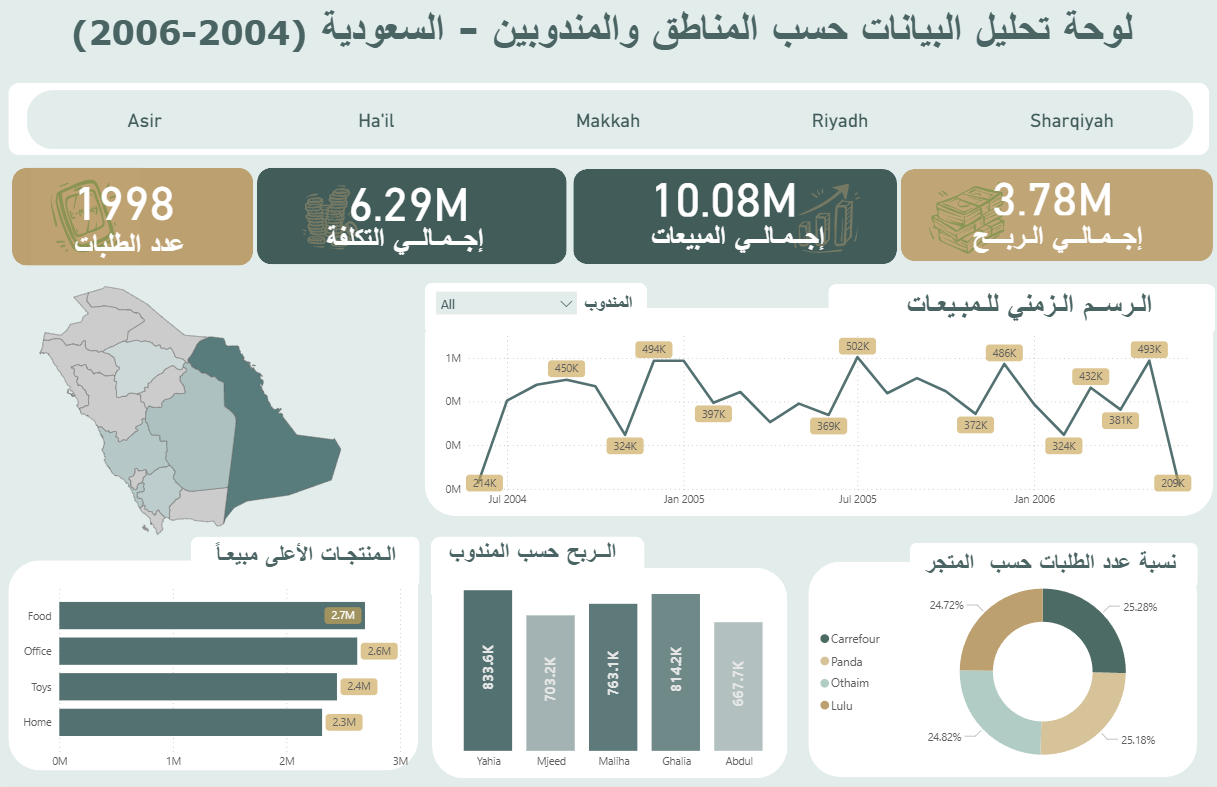

This screenshot's page, from the dashboard's own definition file:
{"tool":"powerbi","page":{"name":"SPARK_KKU","canvas":[1400,900],"ordinal":1},"visuals":[{"type":"shape","box":[13.3,95,1372.9,82.9],"z":0,"group":"g12"},{"type":"group","id":"g1","title":"الربح","box":[1031.8,193.3,357.1,110.5],"z":0,"group":"g11"},{"type":"shape","box":[16.7,193.9,275.7,111.8],"z":0,"group":"g8"},{"type":"shape","box":[296.6,194,354.3,110.5],"z":0,"group":"g6"},{"type":"shape","box":[658,194.6,370,108.8],"z":0,"group":"g4"},{"type":"shape","box":[1031.8,195.4,357.1,105.6],"z":0,"group":"g1"},{"type":"shape","box":[488.3,325,254.7,59],"z":0,"group":"g9"},{"type":"shape","box":[488.7,353.4,901.7,238.3],"z":0,"group":"g7"},{"type":"group","id":"g2","title":"الربح حسب المندوب","box":[458.3,608.3,453.3,281.7],"z":0},{"type":"shape","box":[495.7,613.4,244.5,74.3],"z":0,"group":"g2"},{"type":"shape","box":[13.3,642.4,469.1,240.4],"z":0,"group":"g5"},{"type":"shape","box":[927.2,643.6,445,246.7],"z":0,"group":"g3"},{"type":"group","id":"g3","title":"نسبة الطلبات حسب المتجر","box":[927.2,621.9,449.6,278.3],"z":500},{"type":"advancedSlicerVisual","fields":{"Values":["PASU_Clean.State"]},"box":[35.3,103.7,1332.5,67.1],"z":1000,"group":"g12"},{"type":"actionButton","box":[38.1,193.5,125.7,110.5],"z":1000,"group":"g8"},{"type":"group","id":"g4","title":"المبيعات","box":[658,193.8,370,110.5],"z":1000,"group":"g11"},{"type":"actionButton","box":[1043.3,199.2,127.4,95.3],"z":1000,"group":"g1"},{"type":"actionButton","box":[876.2,211.5,139.9,91.7],"z":1000,"group":"g4"},{"type":"actionButton","box":[322.4,211.7,120,79.3],"z":1000,"group":"g6"},{"type":"shapeMap","fields":{"Category":["PASU_Clean.State"],"Value":["Sum(PASU_Clean.Sale)"]},"box":[0,312.2,441.7,315],"z":1000,"group":"g10"},{"type":"slicer","fields":{"Values":["PASU_Clean.Rep"]},"box":[491.8,325,181.3,52.6],"z":1000,"group":"g9"},{"type":"shape","box":[950.1,326.4,442,58.6],"z":1000,"group":"g7"},{"type":"group","id":"g5","title":"المنتجات  الاعلى مبيعا","box":[13.3,613.3,476.7,275],"z":1000},{"type":"shape","box":[221.4,615.1,261.3,60.1],"z":1000,"group":"g5"},{"type":"shape","box":[1043.3,622.2,329.7,53.2],"z":1000,"group":"g3"},{"type":"shape","box":[496.8,649.1,406.7,240.8],"z":1000,"group":"g2"},{"type":"group","id":"g6","title":"التكلفة","box":[296.6,194,354.3,110.5],"z":2000,"group":"g11"},{"type":"textbox","box":[1061.8,247,287.8,56.8],"z":2000,"group":"g1"},{"type":"textbox","box":[684.9,248.6,300,55.8],"z":2000,"group":"g4"},{"type":"textbox","box":[306.7,250.1,296.4,51.3],"z":2000,"group":"g6"},{"type":"textbox","box":[42.4,257.1,217.4,56.1],"z":2000,"group":"g8"},{"type":"group","id":"g7","title":"مبيعات عبر الزمن","box":[488.3,325,916.7,266.7],"z":2000},{"type":"textbox","box":[953.8,325,451.2,58.6],"z":2000,"group":"g7"},{"type":"textbox","box":[645.2,328.8,105.7,47.5],"z":2000,"group":"g9"},{"type":"textbox","box":[217.2,613.3,272.4,58.5],"z":2000,"group":"g5"},{"type":"textbox","box":[1031.8,621.9,345,50],"z":2000,"group":"g3"},{"type":"columnChart","fields":{"Category":["PASU_Clean.Rep"],"Y":["PASU_Clean.Profit"]},"box":[500.4,630.5,410.9,258.1],"z":2000,"group":"g2"},{"type":"card","fields":{"Values":["PASU_Clean.Profit"]},"box":[1093,193.3,225.4,59.5],"z":3000,"group":"g1"},{"type":"group","id":"g8","title":"الطلبات","box":[16.7,193.5,275.7,119.7],"z":3000,"group":"g11"},{"type":"card","fields":{"Values":["Sum(PASU_Clean.Sale)"]},"box":[710.1,193.8,240.7,61.2],"z":3000,"group":"g4"},{"type":"card","fields":{"Values":["PASU_Clean.Number of Tran"]},"box":[58.5,195.9,173.4,63.2],"z":3000,"group":"g8"},{"type":"card","fields":{"Values":["Sum(PASU_Clean.Cost)"]},"box":[354,197.3,233.3,63.3],"z":3000,"group":"g6"},{"type":"group","id":"g9","title":"المندوب","box":[488.3,325,262.5,59],"z":3000,"group":"g7"},{"type":"textbox","box":[458.3,608.3,315.9,53.2],"z":3000,"group":"g2"},{"type":"donutChart","fields":{"Category":["PASU_Clean.Store"],"Y":["PASU_Clean.Number of Tran"]},"box":[940.2,636.9,431.7,263.3],"z":3000,"group":"g3"},{"type":"barChart","fields":{"Category":["PASU_Clean.Prod"],"Y":["Sum(PASU_Clean.Sale)"]},"box":[22.6,660.9,454.2,229.2],"z":3000,"group":"g5"},{"type":"group","id":"g10","title":"الخريطة","box":[0,312.2,473.5,499.4],"z":4000},{"type":"lineChart","fields":{"Category":["PASU_Clean.Date.Variation.Date Hierarchy.Year","PASU_Clean.Date.Variation.Date Hierarchy.Quarter","PASU_Clean.Date.Variation.Date Hierarchy.Month"],"Y":["Sum(PASU_Clean.Sale)"]},"box":[506.8,372.1,873,218.6],"z":4000,"group":"g7"},{"type":"group","id":"g11","title":"kpi","box":[16.7,193.3,1372.2,119.9],"z":4500},{"type":"group","id":"g12","title":"الازرار","box":[13.3,95,1373.3,83.3],"z":5000},{"type":"textbox","box":[0,0,1365,80],"z":6000}]}

Visuals, with their boxes in screenshot pixels (x1, y1, x2, y2), scaled from the page's 1400x900 canvas onto the 1217x787 screenshot:
shape: [12,83,1205,156]
"الربح" group: [897,169,1207,266]
shape: [15,170,254,267]
shape: [258,170,566,266]
shape: [572,170,894,265]
shape: [897,171,1207,263]
shape: [424,284,646,336]
shape: [425,309,1209,517]
"الربح حسب المندوب" group: [398,532,792,778]
shape: [431,536,643,601]
shape: [12,562,419,772]
shape: [806,563,1193,779]
"نسبة الطلبات حسب المتجر" group: [806,544,1197,786]
advancedSlicerVisual - PASU_Clean.State: [31,91,1189,149]
actionButton: [33,169,142,266]
"المبيعات" group: [572,169,894,266]
actionButton: [907,174,1018,258]
actionButton: [762,185,883,265]
actionButton: [280,185,385,254]
shapeMap - PASU_Clean.State x Sum(PASU_Clean.Sale): [0,273,384,548]
slicer - PASU_Clean.Rep: [428,284,585,330]
shape: [826,285,1210,337]
"المنتجات  الاعلى مبيعا" group: [12,536,426,777]
shape: [192,538,420,590]
shape: [907,544,1194,591]
shape: [432,568,785,778]
"التكلفة" group: [258,170,566,266]
textbox: [923,216,1173,266]
textbox: [595,217,856,266]
textbox: [267,219,524,264]
textbox: [37,225,226,274]
"مبيعات عبر الزمن" group: [424,284,1216,517]
textbox: [829,284,1216,335]
textbox: [561,288,653,329]
textbox: [189,536,426,587]
textbox: [897,544,1197,588]
columnChart - PASU_Clean.Rep x PASU_Clean.Profit: [435,551,792,777]
card - PASU_Clean.Profit: [950,169,1146,221]
"الطلبات" group: [15,169,254,274]
card - Sum(PASU_Clean.Sale): [617,169,827,223]
card - PASU_Clean.Number of Tran: [51,171,202,227]
card - Sum(PASU_Clean.Cost): [308,173,511,228]
"المندوب" group: [424,284,653,336]
textbox: [398,532,673,578]
donutChart - PASU_Clean.Store x PASU_Clean.Number of Tran: [817,557,1193,786]
barChart - PASU_Clean.Prod x Sum(PASU_Clean.Sale): [20,578,414,778]
"الخريطة" group: [0,273,412,710]
lineChart - PASU_Clean.Date.Variation.Date Hierarchy.Year x PASU_Clean.Date.Variation.Date Hierarchy.Quarter: [441,325,1199,517]
"kpi" group: [15,169,1207,274]
"الازرار" group: [12,83,1205,156]
textbox: [0,0,1187,70]
